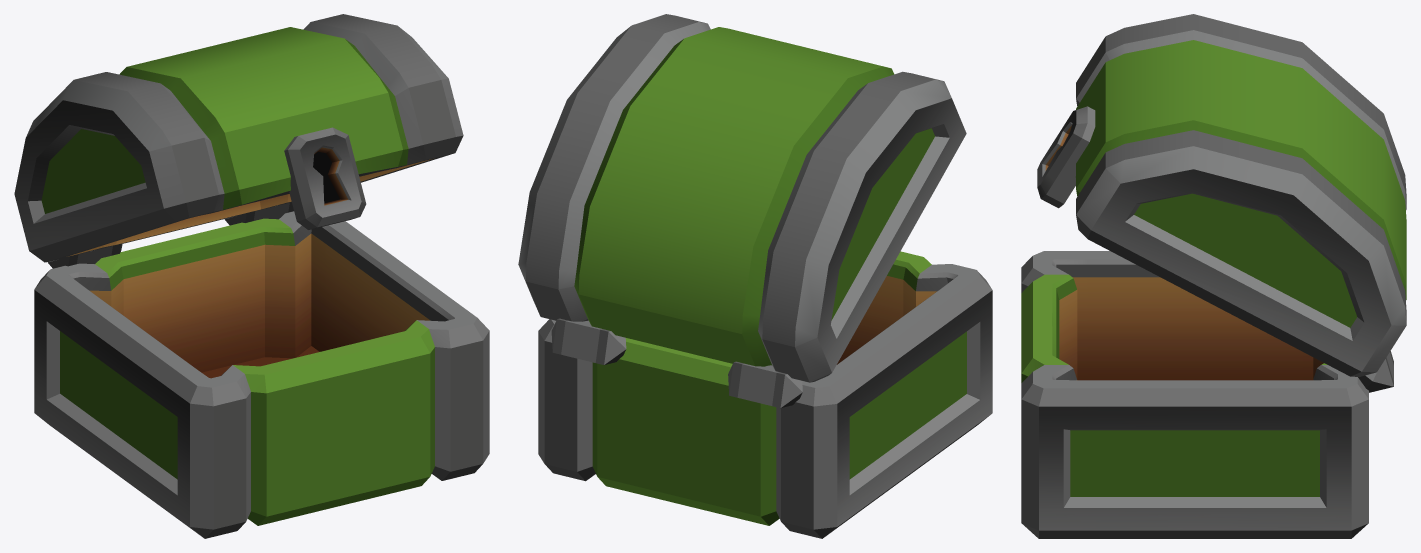
The model's file is m_deco_chestC_open.FBX.
3 views of the same model, side by side, from view 1: azimuth 30°, elevation 25°; view 2: azimuth 150°, elevation 25°; view 3: azimuth 270°, elevation 25° (orthographic).
Visible parts, largest first — view 1: m_deco_chestC_open; view 2: m_deco_chestC_open; view 3: m_deco_chestC_open.
Part boxes in pixels (box(x1,y1,x2,y2)): m_deco_chestC_open: box(14, 14, 489, 538); m_deco_chestC_open: box(518, 14, 992, 538); m_deco_chestC_open: box(1021, 14, 1406, 538).
Size of the model in its own units: 2 by 2.5 by 2.22.
